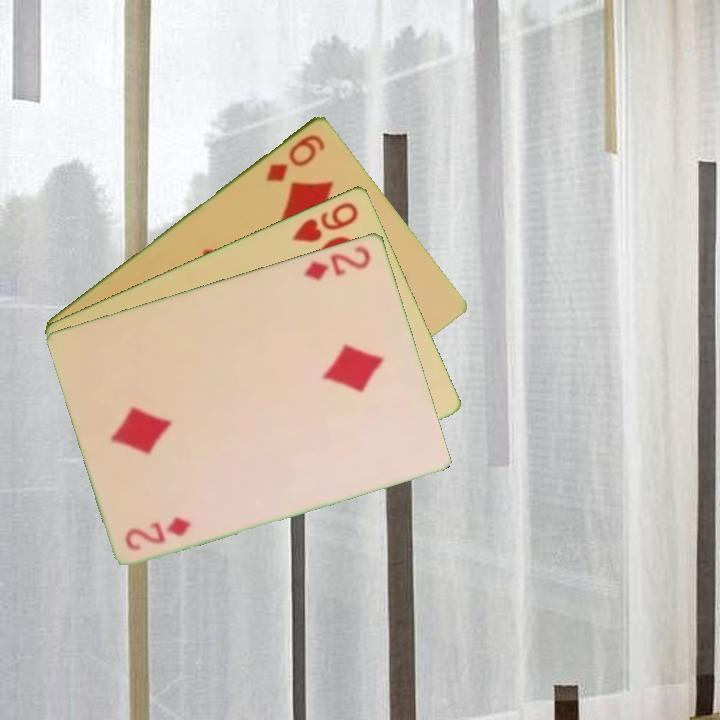2d: (300, 242, 374, 283), (121, 513, 194, 553)
6d: (262, 130, 328, 185)
9h: (289, 197, 362, 245)
